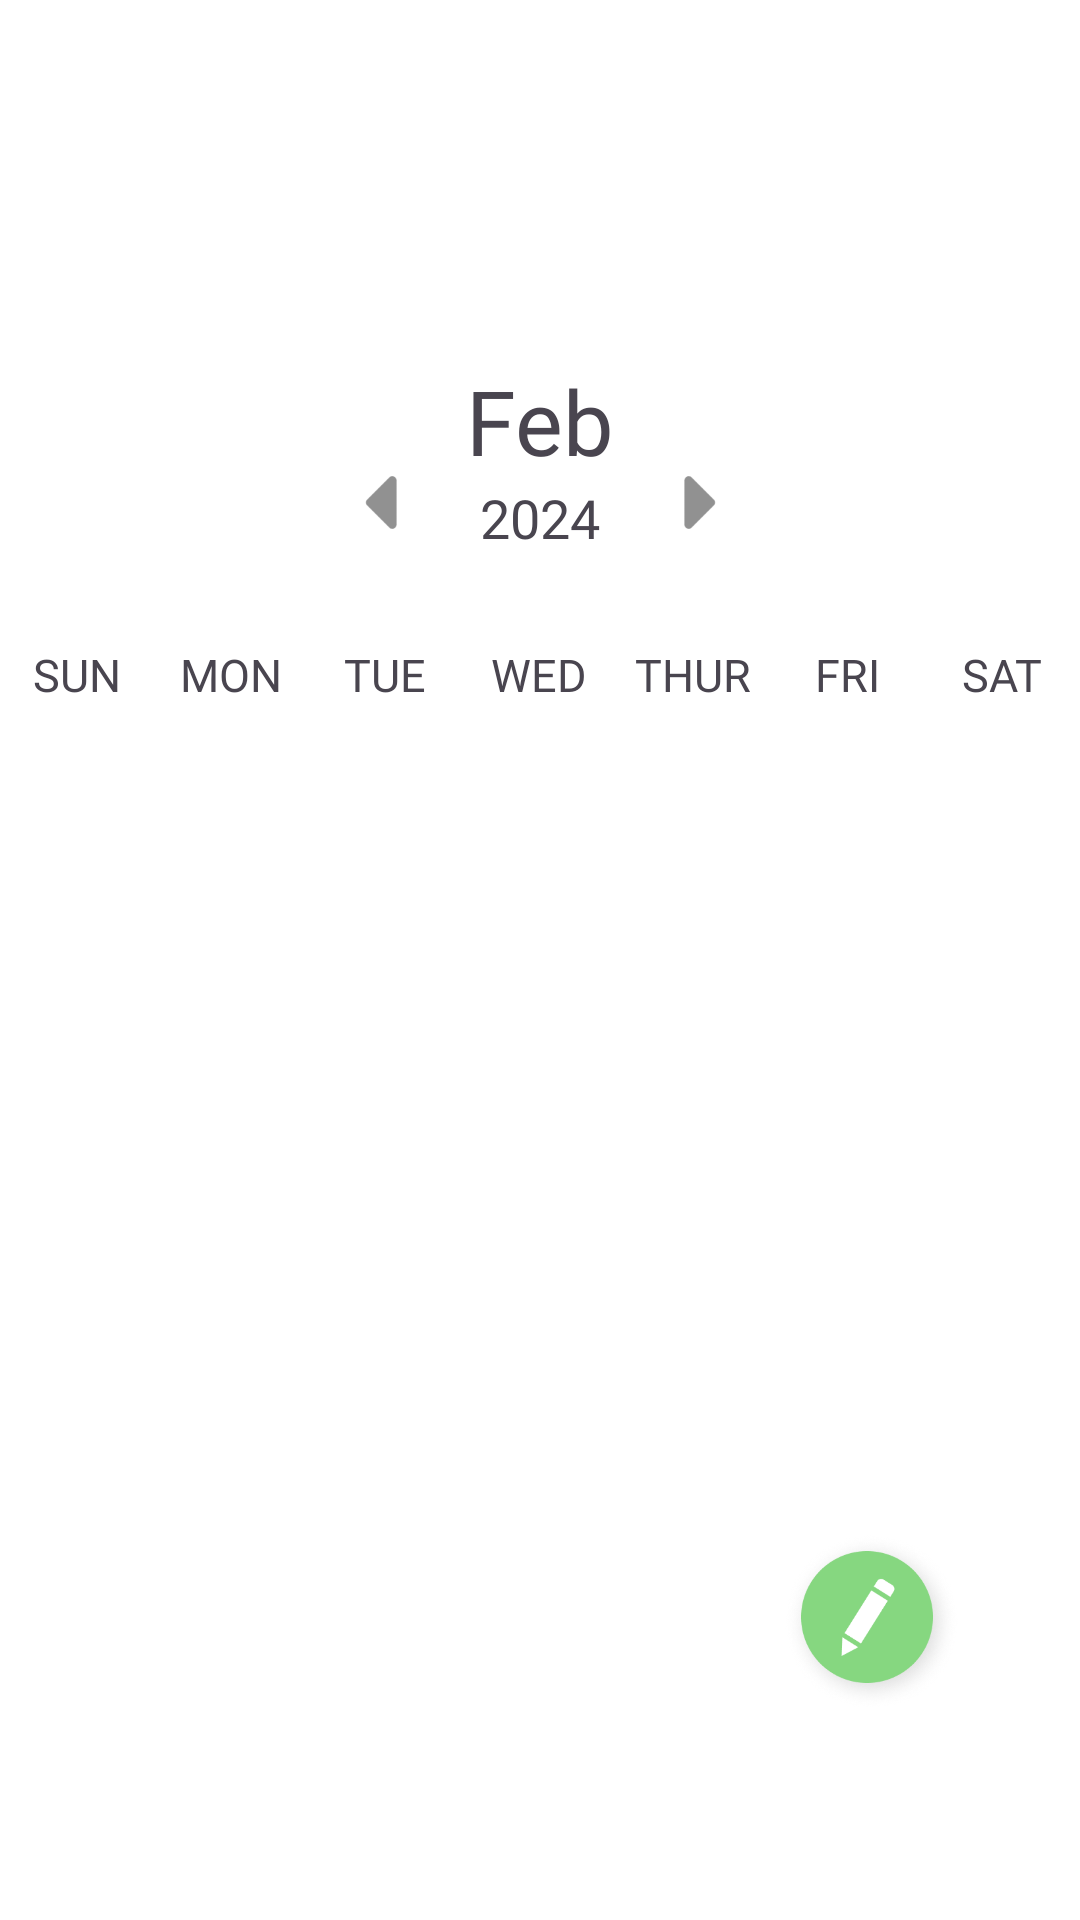

Icons on this 1080px×1920px Android screen, each with the point to tap as (x=x, y=y):
calendar next: (x=699, y=502)
calendar pre: (x=381, y=502)
diary write: (x=867, y=1617)
